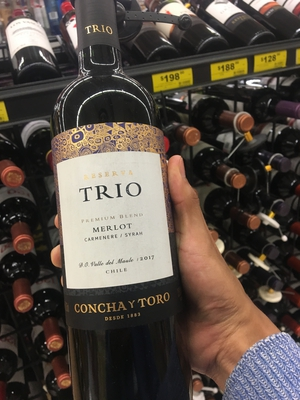trio merlot: (43, 2, 180, 394)
